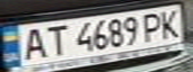4: (72, 19, 96, 53)
6: (90, 17, 112, 51)
8: (106, 16, 127, 48)
9: (121, 13, 145, 46)
A: (15, 25, 51, 61)
K: (157, 7, 184, 39)
P: (139, 10, 169, 43)
T: (39, 23, 69, 57)
